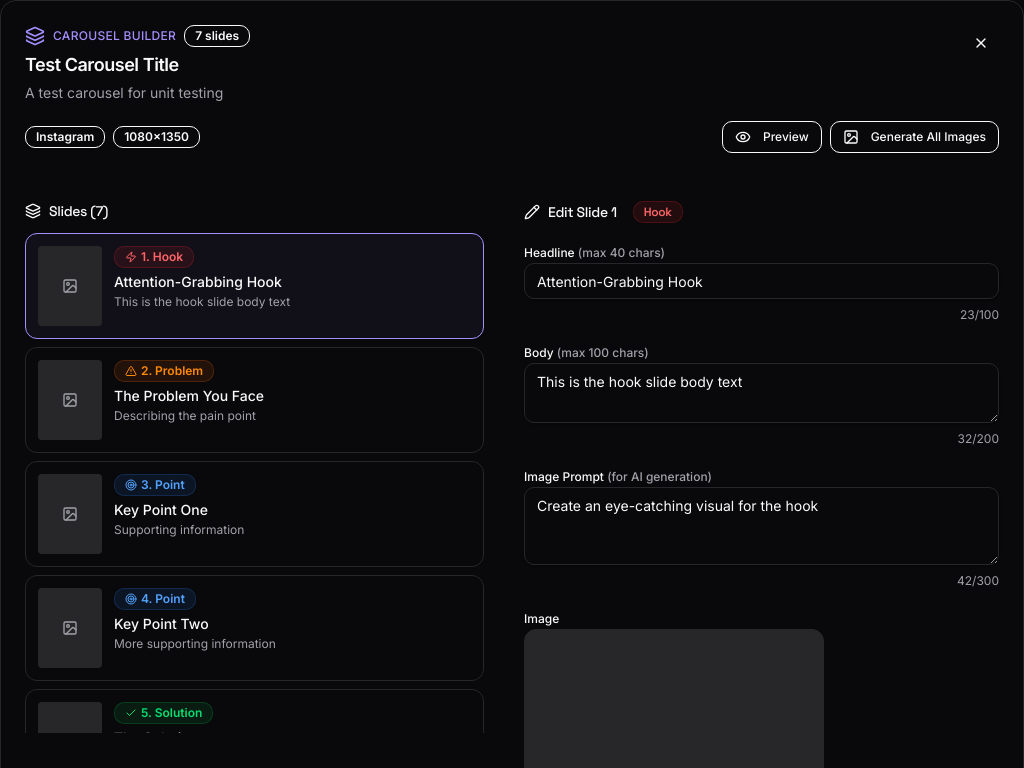
Test: CarouselBuilder - Preview & Export › toggles between edit and preview mode
Expected: the text "Attention-Grabbing Hook" is shown, [114,273,282,290]
Note: Click to switch to preview mode
Click the button "Preview": (772, 137) [722,121,822,153]
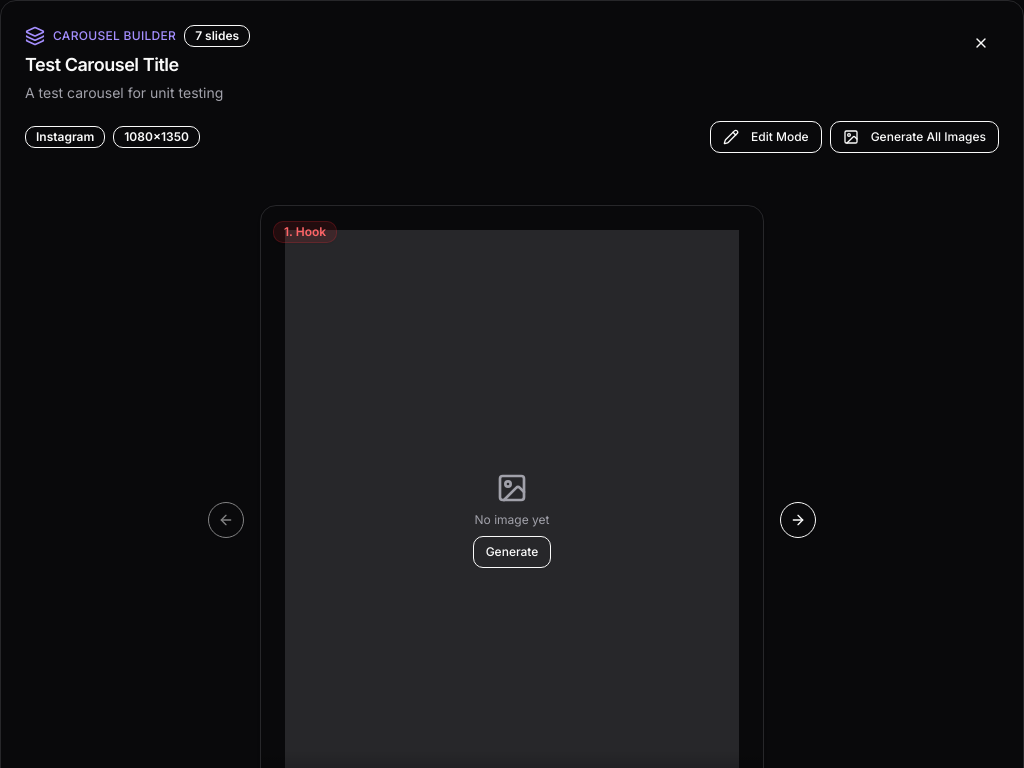
Expected: the button "Edit Mode" is shown
Note: Toggle back to edit mode
Click the button "Edit Mode": (766, 137) [710,121,822,153]
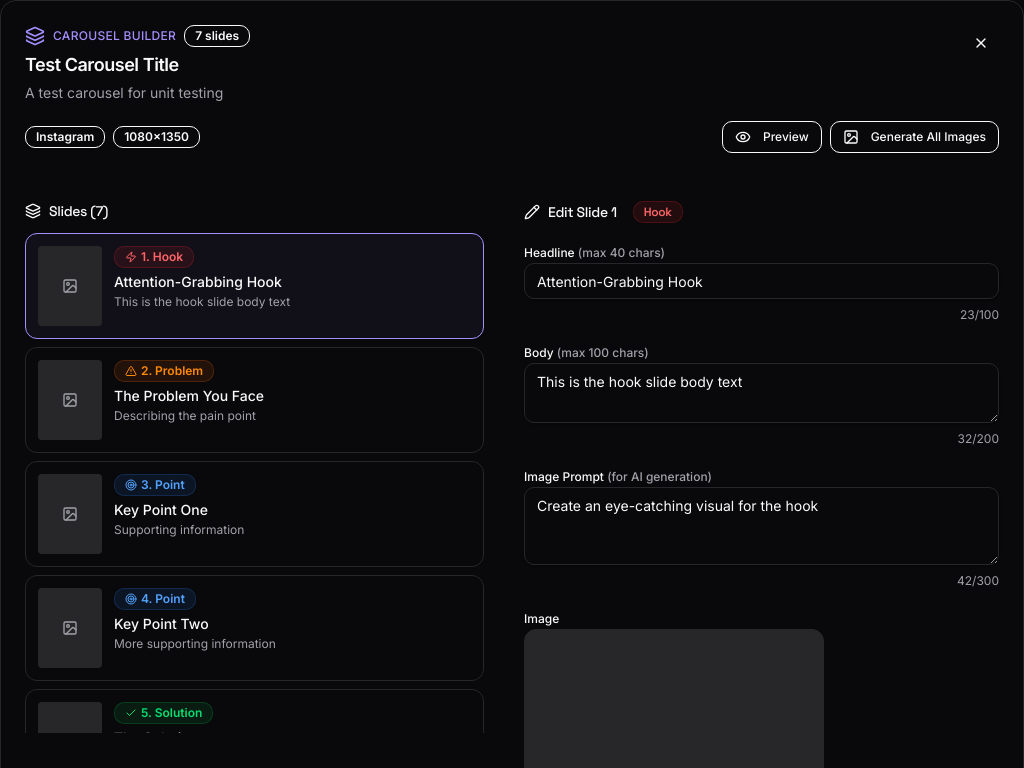
Expected: the button "Preview" is shown, [722,121,822,153]
